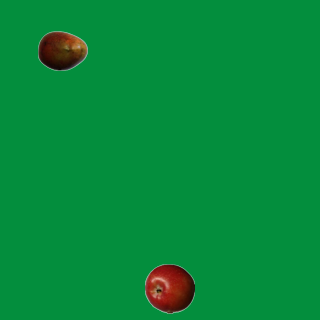Apple Braeburn: (144, 263, 194, 313)
Mango Red: (37, 25, 87, 75)
